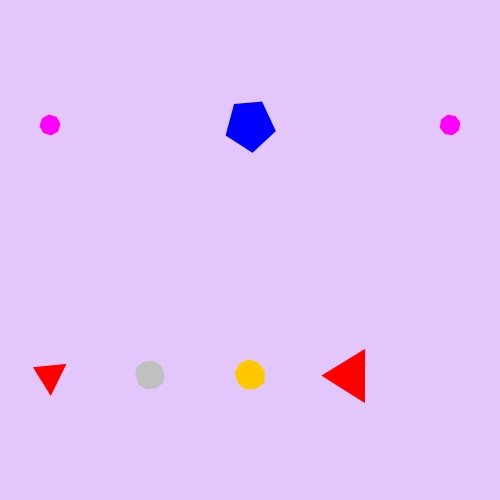decagon: (131, 357, 170, 393)
nonagon: (231, 356, 270, 394)
octagon: (35, 110, 65, 140), (435, 110, 465, 140)
pentagon: (222, 97, 279, 154)
triangle: (324, 347, 377, 403), (31, 355, 69, 395)
